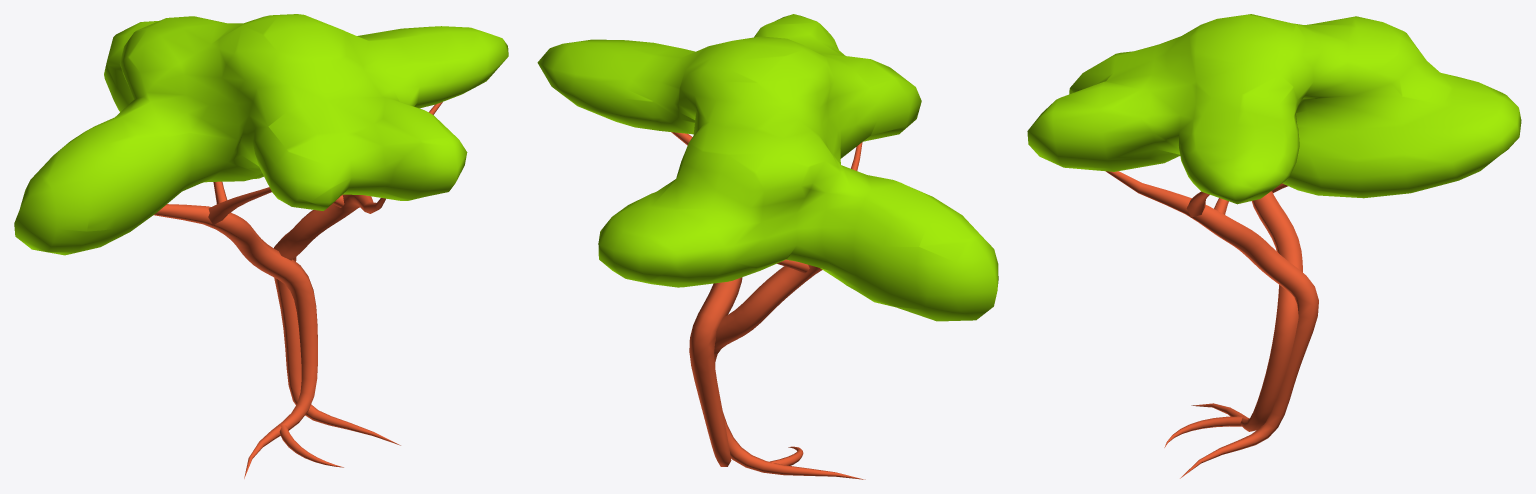
File: oak_tree_temp.gltf
3 views of the same model, side by side, from view 1: azimuth 30°, elevation 25°; view 2: azimuth 150°, elevation 25°; view 3: azimuth 270°, elevation 25° (orthographic). The views are drawn at different scales.
Visible parts, largest first — view 1: NurbsPath.003; view 2: NurbsPath.003; view 3: NurbsPath.003.
Boxes of the visible parts, x1,y1,x2,y2 form: NurbsPath.003: (14,14,508,478); NurbsPath.003: (537,14,998,479); NurbsPath.003: (1027,14,1521,478).
Bounding box in the file's own units: 10.5 × 8.99 × 9.64.
